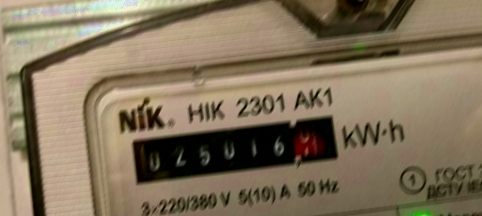0: (221, 136, 238, 160), (146, 148, 162, 172), (296, 122, 310, 143)
1: (246, 132, 260, 158), (301, 145, 310, 157)
2: (172, 142, 187, 167)
5: (197, 143, 210, 165)
6: (270, 132, 286, 158)
screen: (121, 105, 348, 191)
